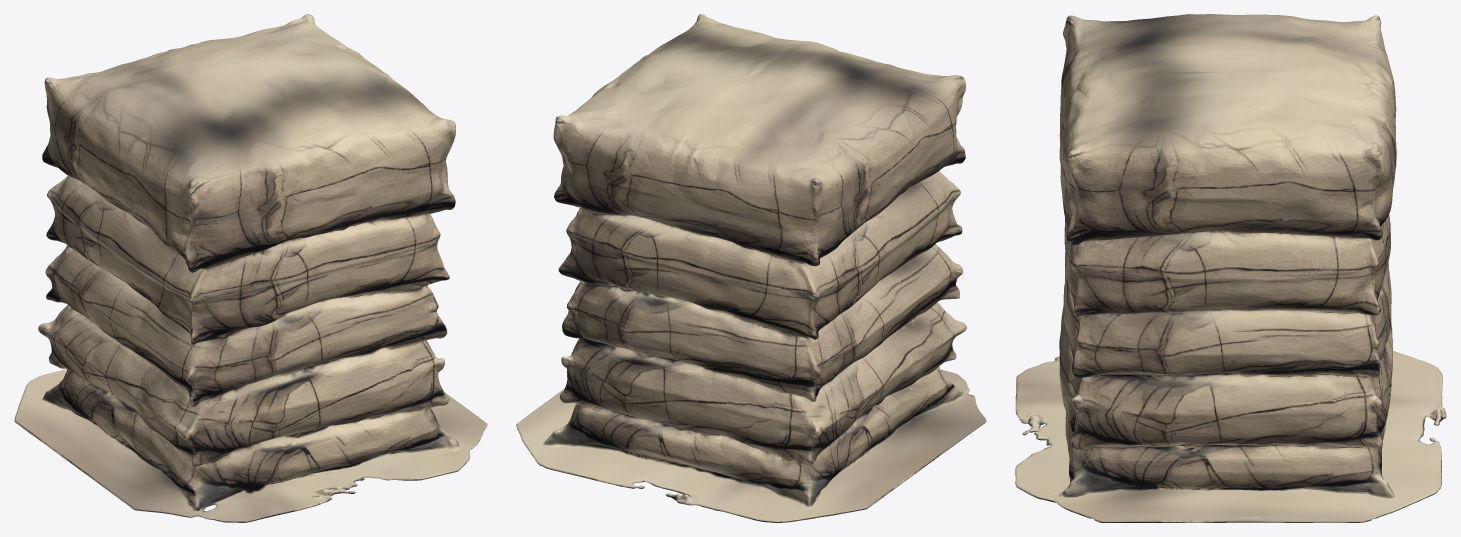
Rendered from sandbags.glb.
3 renders of one model, left to right at view 1: azimuth 30°, elevation 25°; view 2: azimuth 150°, elevation 25°; view 3: azimuth 270°, elevation 25°, orthographic. The views are drawn at different scales.
Visible parts, largest first — view 1: sandbags; view 2: sandbags; view 3: sandbags.
Part boxes in pixels (x1,y1,x2,y2): sandbags: [14, 14, 487, 522]; sandbags: [516, 14, 986, 522]; sandbags: [1015, 14, 1446, 522].
Bounding box in the file's own units: 0.5363 × 0.5111 × 0.5354.
1 material, 1 textured.
